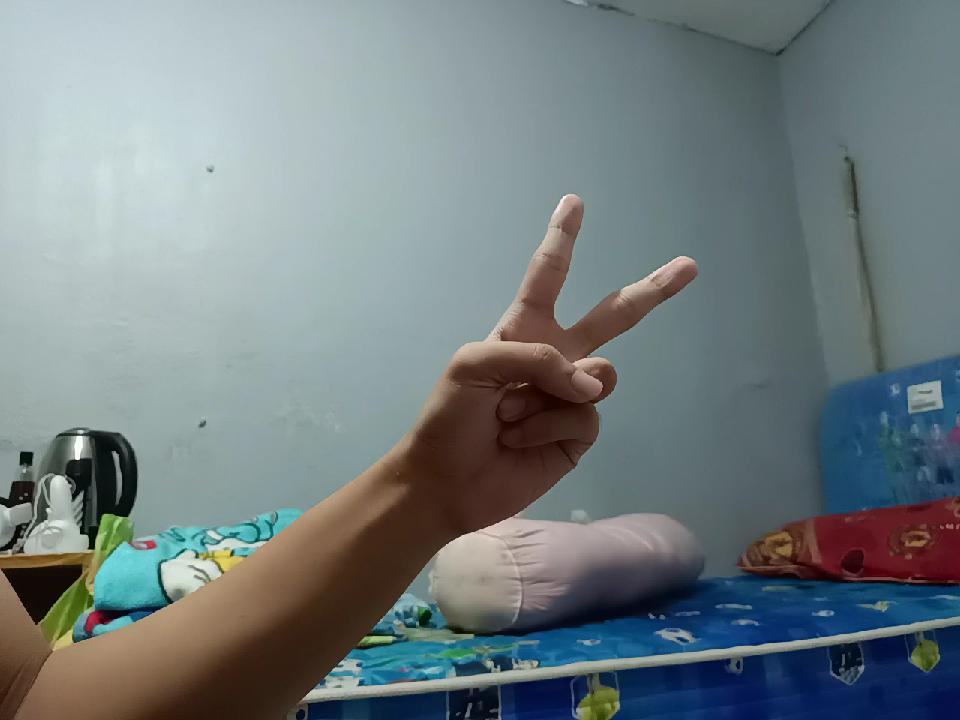scissors: (394, 170, 682, 530)
